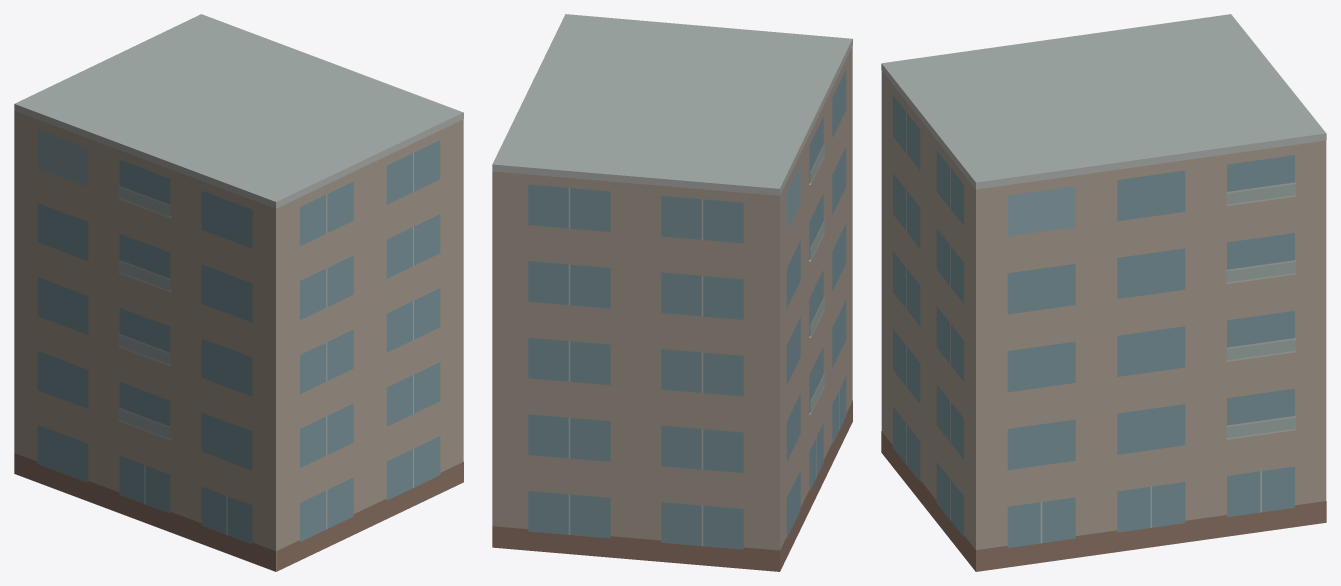
Rendered from survey-upis-32995053.glb.
3 renders of one model, left to right at view 1: azimuth 30°, elevation 25°; view 2: azimuth 150°, elevation 25°; view 3: azimuth 270°, elevation 25°, orthographic. The views are drawn at different scales.
Parts seen in each view (by area): view 1: survey-upis-32995053.tmp; view 2: survey-upis-32995053.tmp; view 3: survey-upis-32995053.tmp.
Boxes of the visible parts, x1=… form: survey-upis-32995053.tmp: x1=14, y1=14, x2=463, y2=571; survey-upis-32995053.tmp: x1=492, y1=14, x2=852, y2=571; survey-upis-32995053.tmp: x1=881, y1=14, x2=1326, y2=571.
Size of the model in its own units: 12.55 by 13.5 by 14.
